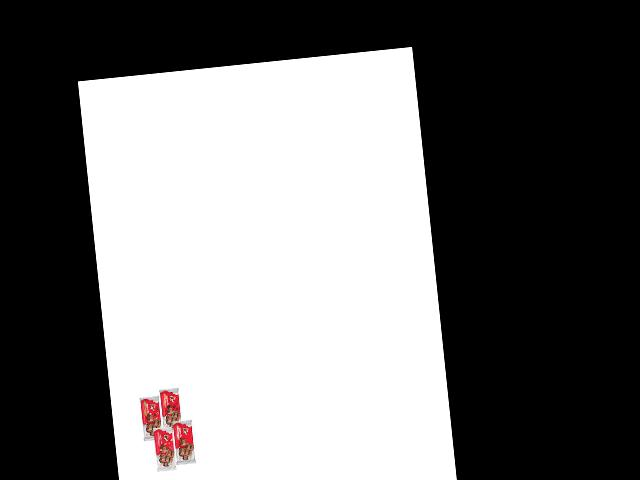chocolate: (136, 391, 167, 444)
